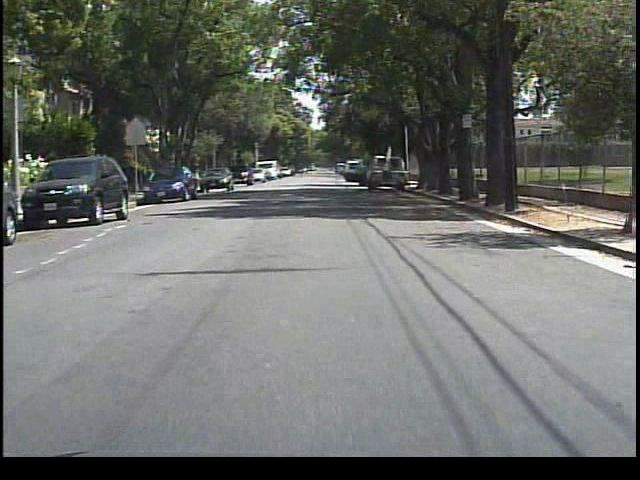person: (355, 162, 370, 188)
